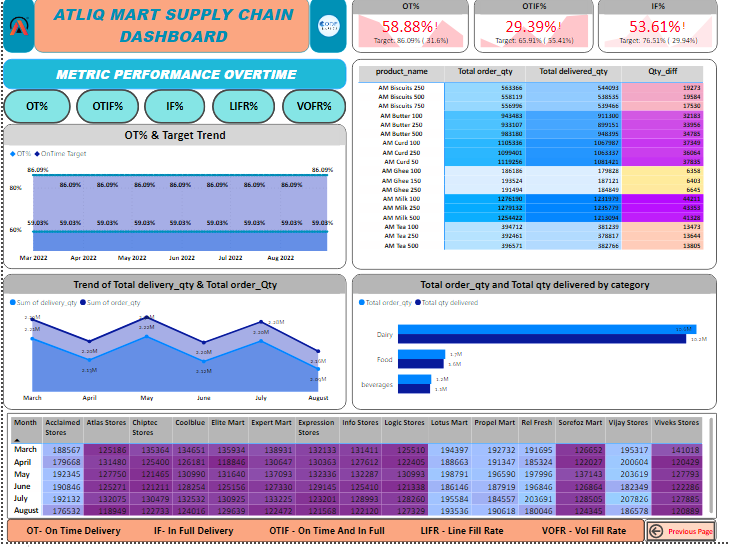

The dashboard page shown, as its layout file describes it:
{"tool":"powerbi","page":{"name":"Page 2","canvas":[1280,940],"ordinal":1},"visuals":[{"type":"areaChart","title":"OT% & Target Trend","fields":{"Y":["Key_measures.OT%","Key_measures.OnTime Target"],"Category":["fact_order_line.order_placement_date","dim_date.week_no"]},"box":[0,219,592,250],"z":0},{"type":"actionButton","box":[0,159,117,60],"z":5000},{"type":"actionButton","box":[126,159,109,60],"z":6000},{"type":"actionButton","box":[243,159,106,60],"z":7000},{"type":"actionButton","box":[360,159,109,60],"z":8000},{"type":"actionButton","box":[481,159,111,60],"z":9000},{"type":"image","box":[0,0,54,96],"z":10000},{"type":"textbox","box":[54,0,475,96],"z":11000},{"type":"image","box":[529,0,63,96],"z":12000},{"type":"kpi","title":"OT% ","fields":{"Indicator":["Key_measures.OT%"],"Goal":["Key_measures.On Time Target"],"TrendLine":["dim_date.mmm_yy"]},"box":[602,0,201,96],"z":13000},{"type":"kpi","title":"IF%","fields":{"TrendLine":["dim_date.mmm_yy"],"Indicator":["Key_measures.IF%"],"Goal":["Key_measures.In Full Target"]},"box":[1025,0,206,96],"z":14000},{"type":"kpi","title":"OTIF% ","fields":{"TrendLine":["dim_date.mmm_yy"],"Goal":["Key_measures.OnTime Infull Target"],"Indicator":["Key_measures.OTIF%"]},"box":[812,0,206,96],"z":15000},{"type":"textbox","box":[0,107,592,52],"z":16000},{"type":"areaChart","title":"Trend of Total delivery_qty & Total order_Qty","fields":{"Category":["dim_date.mmm_yy.Variation.Date Hierarchy.Month","dim_date.week_no"],"Y":["Sum(fact_order_line.delivery_qty)","Sum(fact_order_line.order_qty)"]},"box":[0,477,592,234],"z":17000},{"type":"pivotTable","fields":{"Rows":["dim_products.product_name"],"Values":["Sum(fact_order_line.order_qty)","Sum(fact_order_line.delivery_qty)","Sum(fact_order_line.Qty_diff)"]},"box":[602,107,629,363],"z":19000},{"type":"pivotTable","fields":{"Values":["Sum(fact_order_line.order_qty)"],"Columns":["dim_customers.customer_name"],"Rows":["dim_date.mmm_yy.Variation.Date Hierarchy.Month"]},"box":[7,718,1224,182],"z":19001},{"type":"actionButton","box":[1106,900,125,40],"z":19002},{"type":"textbox","box":[7,900,1099,40],"z":19003},{"type":"clusteredBarChart","fields":{"Category":["dim_products.category","dim_products.product_name"],"Y":["Sum(fact_order_line.order_qty)","Sum(fact_order_line.delivery_qty)"]},"box":[602,477,629,234],"z":19004}]}

Visuals, with their boxes in screenshot pixels (x1, y1, x2, y2), scaled from the page's 1280x940 canvas onto the 729x547 screenshot:
"OT% & Target Trend" areaChart: bbox=(0, 127, 337, 273)
actionButton: bbox=(0, 93, 67, 127)
actionButton: bbox=(72, 93, 134, 127)
actionButton: bbox=(138, 93, 199, 127)
actionButton: bbox=(205, 93, 267, 127)
actionButton: bbox=(274, 93, 337, 127)
image: bbox=(0, 0, 31, 56)
textbox: bbox=(31, 0, 301, 56)
image: bbox=(301, 0, 337, 56)
"OT% " kpi: bbox=(343, 0, 457, 56)
"IF%" kpi: bbox=(584, 0, 701, 56)
"OTIF% " kpi: bbox=(462, 0, 580, 56)
textbox: bbox=(0, 62, 337, 93)
"Trend of Total delivery_qty & Total order_Qty" areaChart: bbox=(0, 278, 337, 414)
pivotTable - dim_products.product_name x Sum(fact_order_line.order_qty): bbox=(343, 62, 701, 274)
pivotTable - Sum(fact_order_line.order_qty) x dim_customers.customer_name: bbox=(4, 418, 701, 524)
actionButton: bbox=(630, 524, 701, 546)
textbox: bbox=(4, 524, 630, 546)
clusteredBarChart - dim_products.category x dim_products.product_name: bbox=(343, 278, 701, 414)
